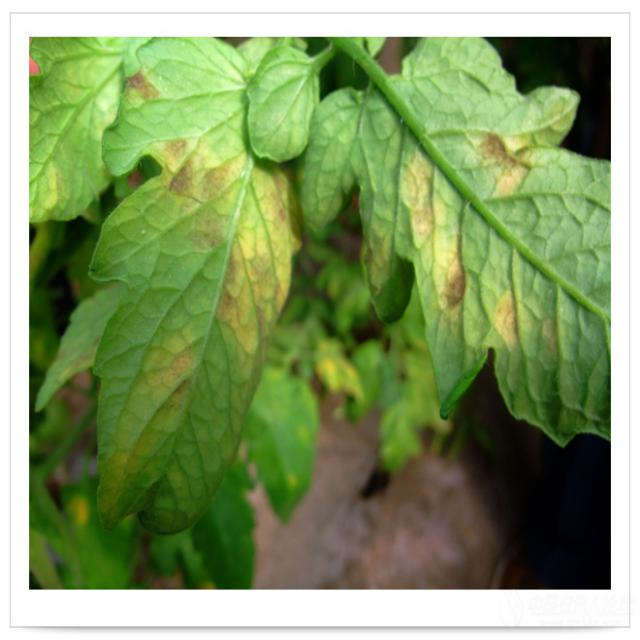Leaf_Mold: (155, 137, 303, 378), (400, 150, 469, 341), (470, 124, 541, 197), (139, 328, 195, 409), (491, 281, 523, 352), (116, 62, 162, 111)
